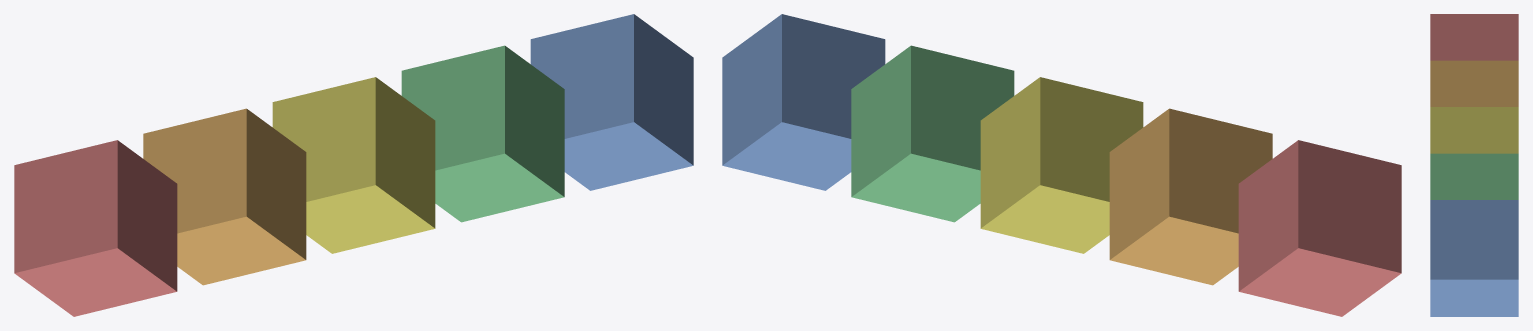
Rendered from 3d-elementary-counting-blocks-rainbow-20260125.glb.
The picture shows the model from 3 angles, left to right: view 1: azimuth 30°, elevation 25°; view 2: azimuth 150°, elevation 25°; view 3: azimuth 270°, elevation 25°; orthographic projection. The views are drawn at different scales.
Visible parts, largest first — view 1: CountingBlocks; view 2: CountingBlocks; view 3: CountingBlocks.
Part boxes in pixels (x1,y1,x2,y2): CountingBlocks: [14, 14, 693, 316]; CountingBlocks: [722, 14, 1401, 316]; CountingBlocks: [1430, 14, 1518, 316].
Bounding box in the file's own units: 2.4 × 0.4 × 0.4.
